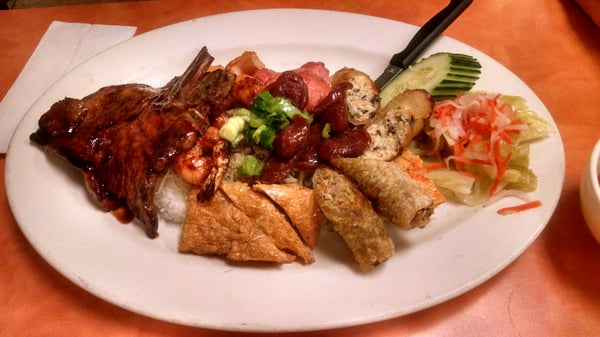sandwich: (374, 1, 475, 90)
